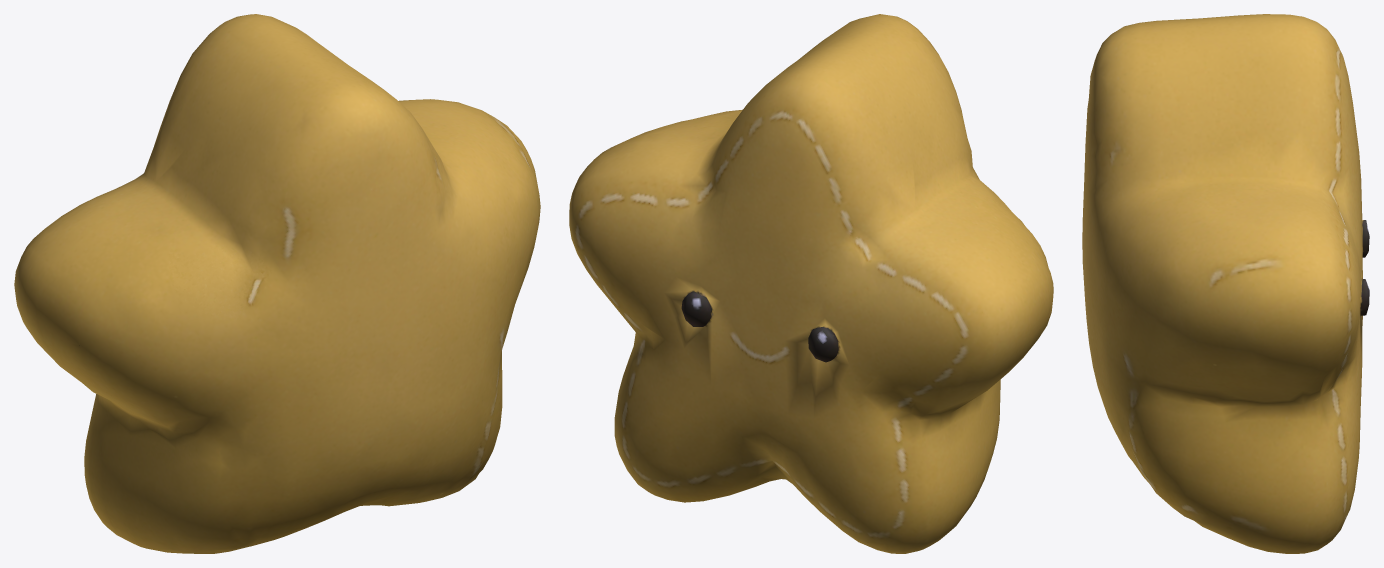
Rendered from star_plush.glb.
3 views of the same model, side by side, from view 1: azimuth 30°, elevation 25°; view 2: azimuth 150°, elevation 25°; view 3: azimuth 270°, elevation 25° (orthographic). The views are drawn at different scales.
Visible parts, largest first — view 1: star_plush; view 2: star_plush; view 3: star_plush.
Part boxes in pixels (left/top/right/bottom): star_plush: left=14, top=14, right=540, bottom=553; star_plush: left=569, top=14, right=1053, bottom=553; star_plush: left=1082, top=14, right=1369, bottom=553.
Size of the model in its own units: 0.8321 by 0.8128 by 0.4574.
1 material, 1 textured.
